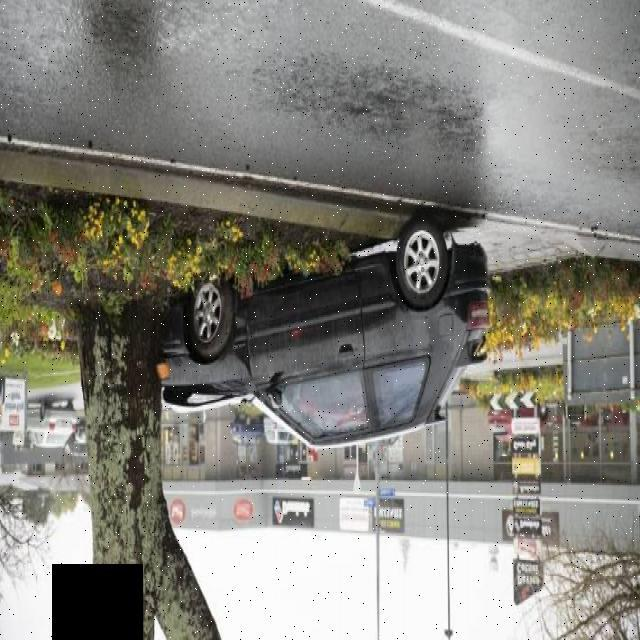moderate: (139, 208, 496, 474)
